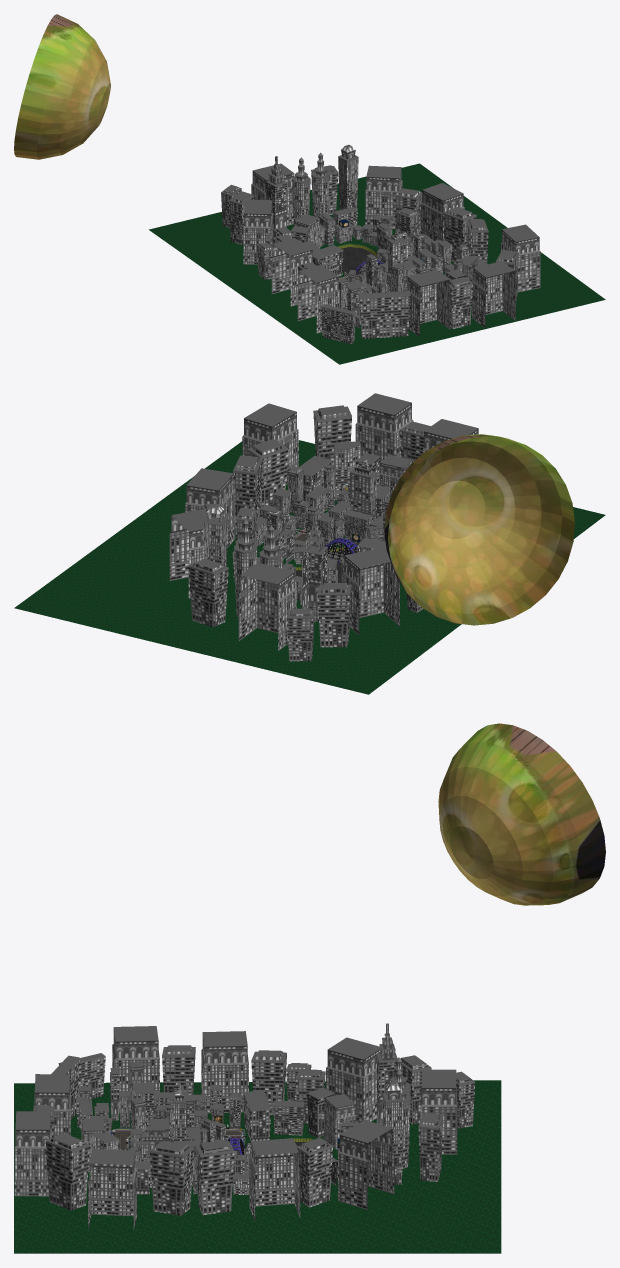
3 views of the same model, one above another, from view 1: azimuth 30°, elevation 25°; view 2: azimuth 150°, elevation 25°; view 3: azimuth 270°, elevation 25° (orthographic). The views are drawn at different scales.
Parts seen in each view (by area): view 1: model_SKP__mat11, model_SKP__mat24, model_SKP__mat19, model_SKP__grau, model_SKP__mat13; view 2: model_SKP__mat11, model_SKP__mat19, model_SKP__mat24, model_SKP__grau; view 3: model_SKP__mat11, model_SKP__mat24, model_SKP__mat19, model_SKP__grau.
Part boxes in pixels (bbox=[...]): model_SKP__mat11: bbox=[221, 146, 540, 344]; model_SKP__mat24: bbox=[149, 163, 605, 364]; model_SKP__mat19: bbox=[14, 14, 424, 261]; model_SKP__grau: bbox=[221, 144, 539, 319]; model_SKP__mat13: bbox=[341, 247, 374, 275]; model_SKP__mat11: bbox=[169, 403, 478, 661]; model_SKP__mat19: bbox=[342, 434, 574, 625]; model_SKP__mat24: bbox=[14, 440, 605, 694]; model_SKP__grau: bbox=[171, 393, 478, 617]; model_SKP__mat11: bbox=[14, 1024, 475, 1230]; model_SKP__mat24: bbox=[14, 1080, 501, 1253]; model_SKP__mat19: bbox=[111, 723, 605, 1134]; model_SKP__grau: bbox=[15, 1023, 474, 1179].
Bounding box in the file's own units: 162861 × 90904 × 153421.
Materials: 20 (20 with a texture image).
